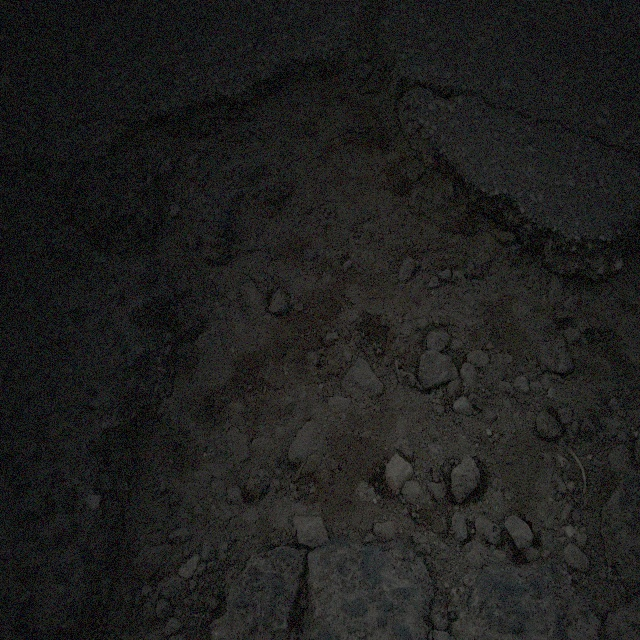pothole: (103, 36, 454, 412)
